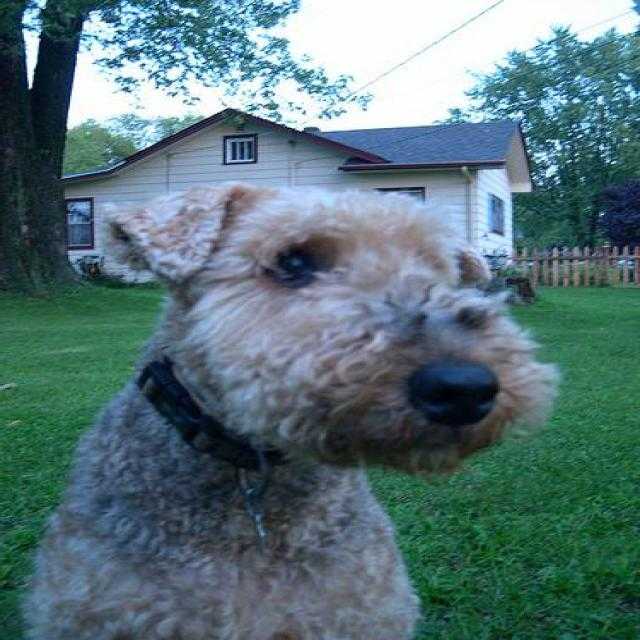airedale: (4, 180, 558, 638)
